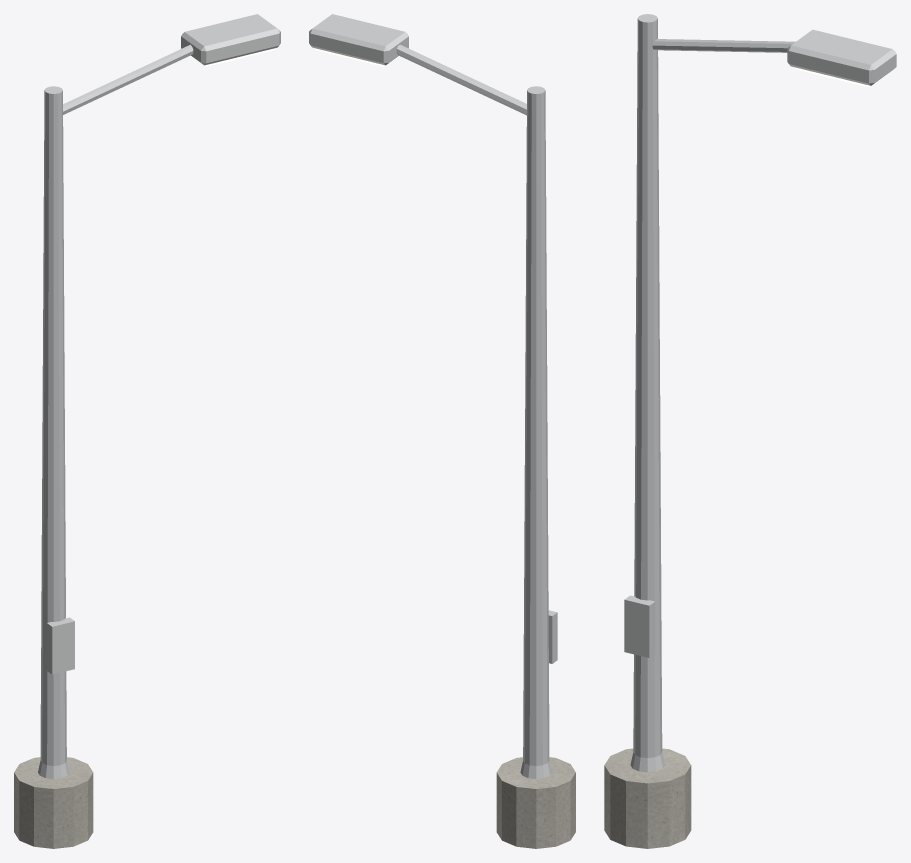
Rendered from light_pole.glb.
The picture shows the model from 3 angles, left to right: view 1: azimuth 30°, elevation 25°; view 2: azimuth 150°, elevation 25°; view 3: azimuth 330°, elevation 25°; orthographic projection. The views are drawn at different scales.
Parts seen in each view (by area): view 1: light_pole_galv, light_pole_concrete; view 2: light_pole_galv, light_pole_concrete; view 3: light_pole_galv, light_pole_concrete.
Part boxes in pixels (box(x1,y1,x2,y2)): light_pole_galv: box(38, 14, 280, 778); light_pole_concrete: box(14, 757, 93, 848); light_pole_galv: box(309, 14, 557, 778); light_pole_concrete: box(496, 757, 575, 848); light_pole_galv: box(624, 14, 896, 772); light_pole_concrete: box(604, 748, 691, 848).
Size of the model in its own units: 2.2 by 6.34 by 0.6.
3 materials, 1 textured.
